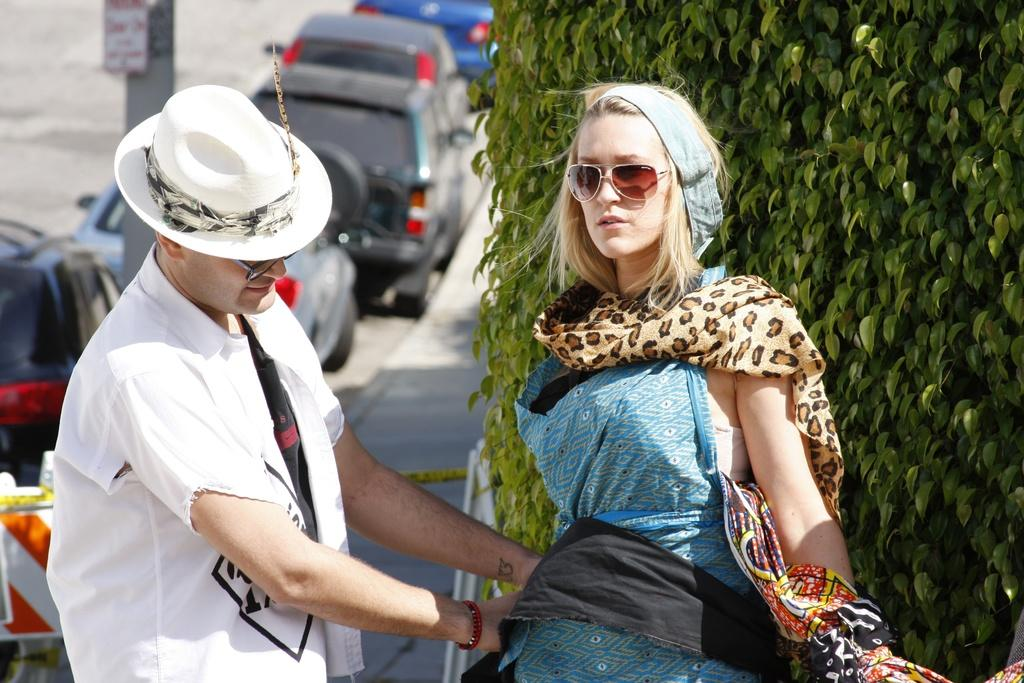Hat: (112, 80, 333, 259)
